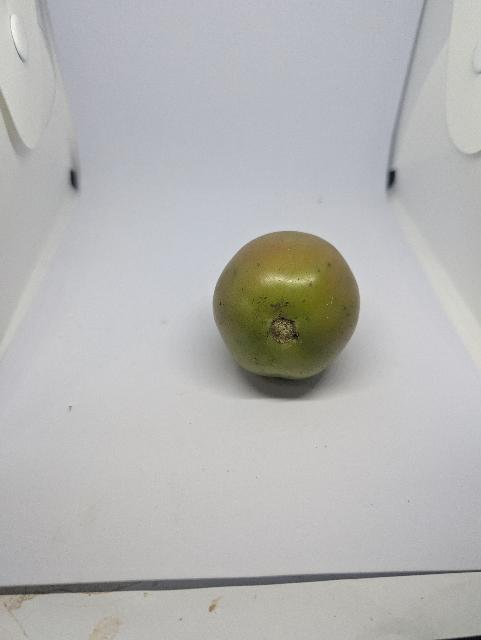breaker: (206, 226, 365, 396)
